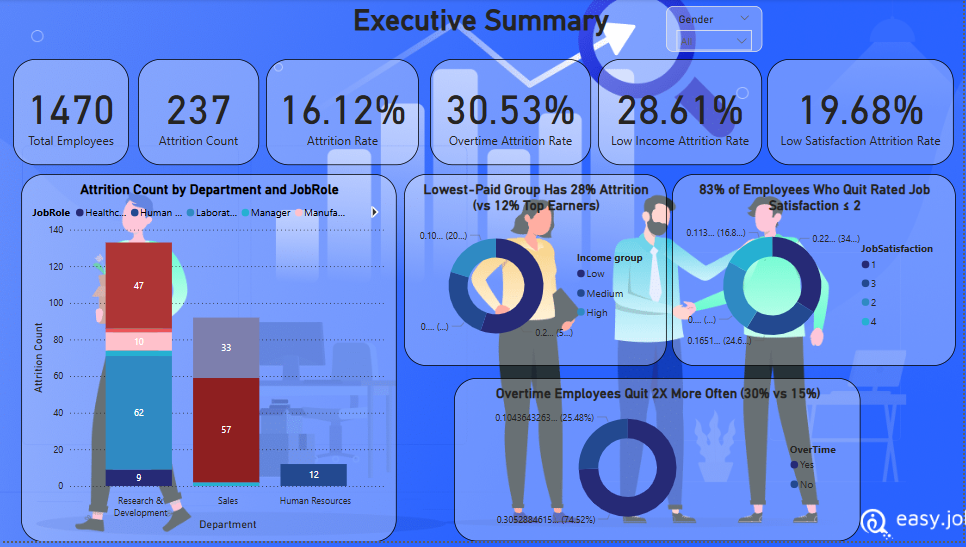

This screenshot's page, from the dashboard's own definition file:
{"tool":"powerbi","page":{"name":"Page 3","canvas":[1280,720],"ordinal":1},"visuals":[{"type":"card","fields":{"Values":["EmployeeData.Total Employees"]},"box":[17.3,79.7,154.1,140.8],"z":0},{"type":"card","fields":{"Values":["EmployeeData.Attrition Count"]},"box":[183.3,79.7,160.7,140.8],"z":1000},{"type":"card","fields":{"Values":["EmployeeData.Attrition Rate"]},"box":[353.4,79.7,203.2,140.8],"z":2000},{"type":"textbox","box":[405.4,0,468.3,70.2],"z":3000},{"type":"columnChart","fields":{"Category":["EmployeeData.Department"],"Y":["EmployeeData.Attrition Count"],"Series":["EmployeeData.JobRole"]},"box":[27.9,231.9,499.1,488.8],"z":4000},{"type":"card","fields":{"Values":["EmployeeData.Overtime Attrition Rate"]},"box":[571.2,79.7,213.9,140.8],"z":5000},{"type":"card","fields":{"Values":["EmployeeData.Low Income Attrition Rate"]},"box":[794.4,79.7,217.9,140.8],"z":6000},{"type":"card","fields":{"Values":["EmployeeData.Low Satisfaction Attrition Rate"]},"box":[1018.9,79.7,248.4,140.8],"z":7000},{"type":"donutChart","title":"Lowest-Paid Group Has 28% Attrition (vs 12% Top Earners)","fields":{"Category":["EmployeeData.Income group"],"Y":["EmployeeData.Attrition Rate"]},"box":[537.2,231.9,349.4,255.4],"z":8000},{"type":"donutChart","title":"83% of Employees Who Quit Rated Job Satisfaction ≤ 2","fields":{"Y":["EmployeeData.Attrition Rate"],"Category":["EmployeeData.JobSatisfaction"]},"box":[892.5,231.9,377.2,255.4],"z":9000},{"type":"donutChart","title":"Overtime Employees Quit 2X More Often (30% vs 15%)","fields":{"Category":["EmployeeData.OverTime"],"Y":["EmployeeData.Attrition Rate"]},"box":[603.3,503.5,540.2,217.2],"z":10000},{"type":"slicer","fields":{"Values":["EmployeeData.Gender"]},"box":[884.7,9.3,127.5,61.1],"z":10001}]}

Visuals, with their boxes in screenshot pixels (x1, y1, x2, y2), scaled from the page's 1280x720 canvas onto the 966x547 screenshot:
card - EmployeeData.Total Employees: [13, 61, 129, 168]
card - EmployeeData.Attrition Count: [138, 61, 260, 168]
card - EmployeeData.Attrition Rate: [267, 61, 420, 168]
textbox: [306, 0, 659, 53]
columnChart - EmployeeData.Department x EmployeeData.Attrition Count: [21, 176, 398, 546]
card - EmployeeData.Overtime Attrition Rate: [431, 61, 593, 168]
card - EmployeeData.Low Income Attrition Rate: [600, 61, 764, 168]
card - EmployeeData.Low Satisfaction Attrition Rate: [769, 61, 956, 168]
"Lowest-Paid Group Has 28% Attrition (vs 12% Top Earners)" donutChart: [405, 176, 669, 370]
"83% of Employees Who Quit Rated Job Satisfaction ≤ 2" donutChart: [674, 176, 958, 370]
"Overtime Employees Quit 2X More Often (30% vs 15%)" donutChart: [455, 383, 863, 546]
slicer - EmployeeData.Gender: [668, 7, 764, 53]
